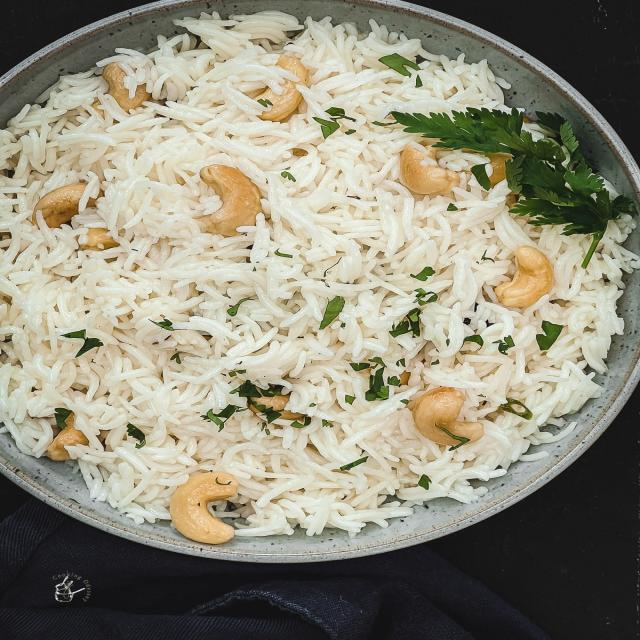nei satham: (0, 9, 622, 567)
